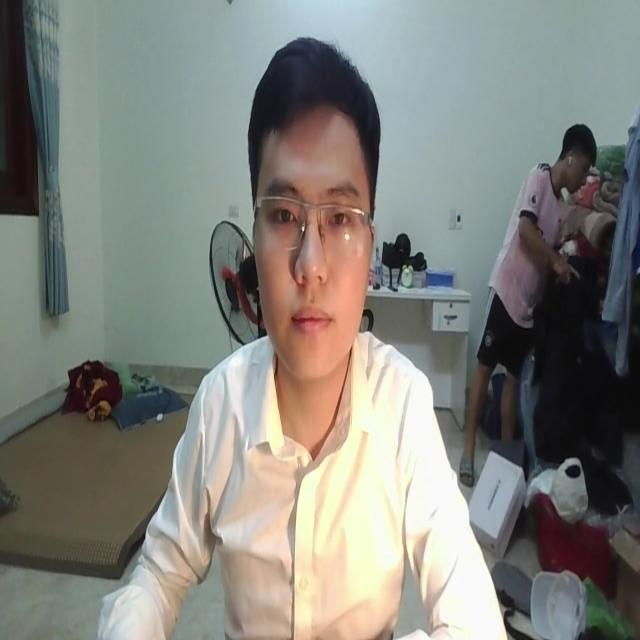extra_person: (458, 117, 596, 474)
student: (94, 37, 509, 640)
